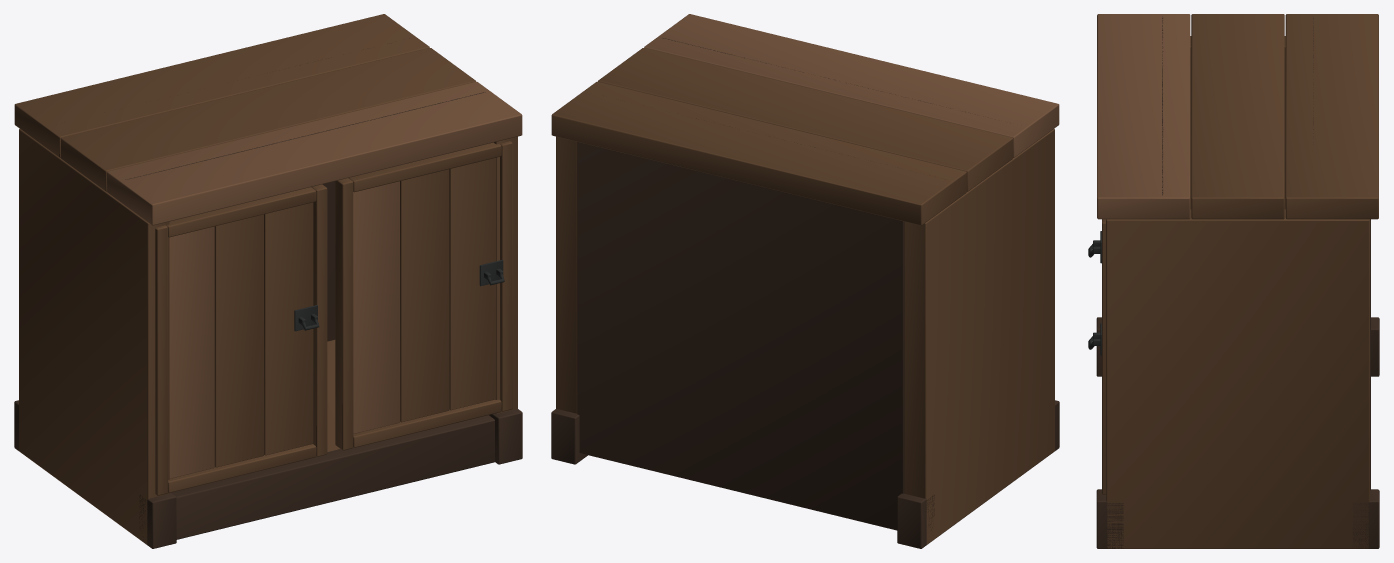
The model's file is kominka-kitchen-counter-900-01.glb.
3 views of the same model, side by side, from view 1: azimuth 30°, elevation 25°; view 2: azimuth 150°, elevation 25°; view 3: azimuth 270°, elevation 25° (orthographic).
Visible parts, largest first — view 1: kominka-kitchen-counter-900-01; view 2: kominka-kitchen-counter-900-01; view 3: kominka-kitchen-counter-900-01.
Part boxes in pixels (x1,y1,x2,y2): kominka-kitchen-counter-900-01: (14, 14, 522, 548); kominka-kitchen-counter-900-01: (551, 14, 1059, 548); kominka-kitchen-counter-900-01: (1088, 14, 1379, 548).
Size of the model in its own units: 0.9 by 0.8 by 0.6.
